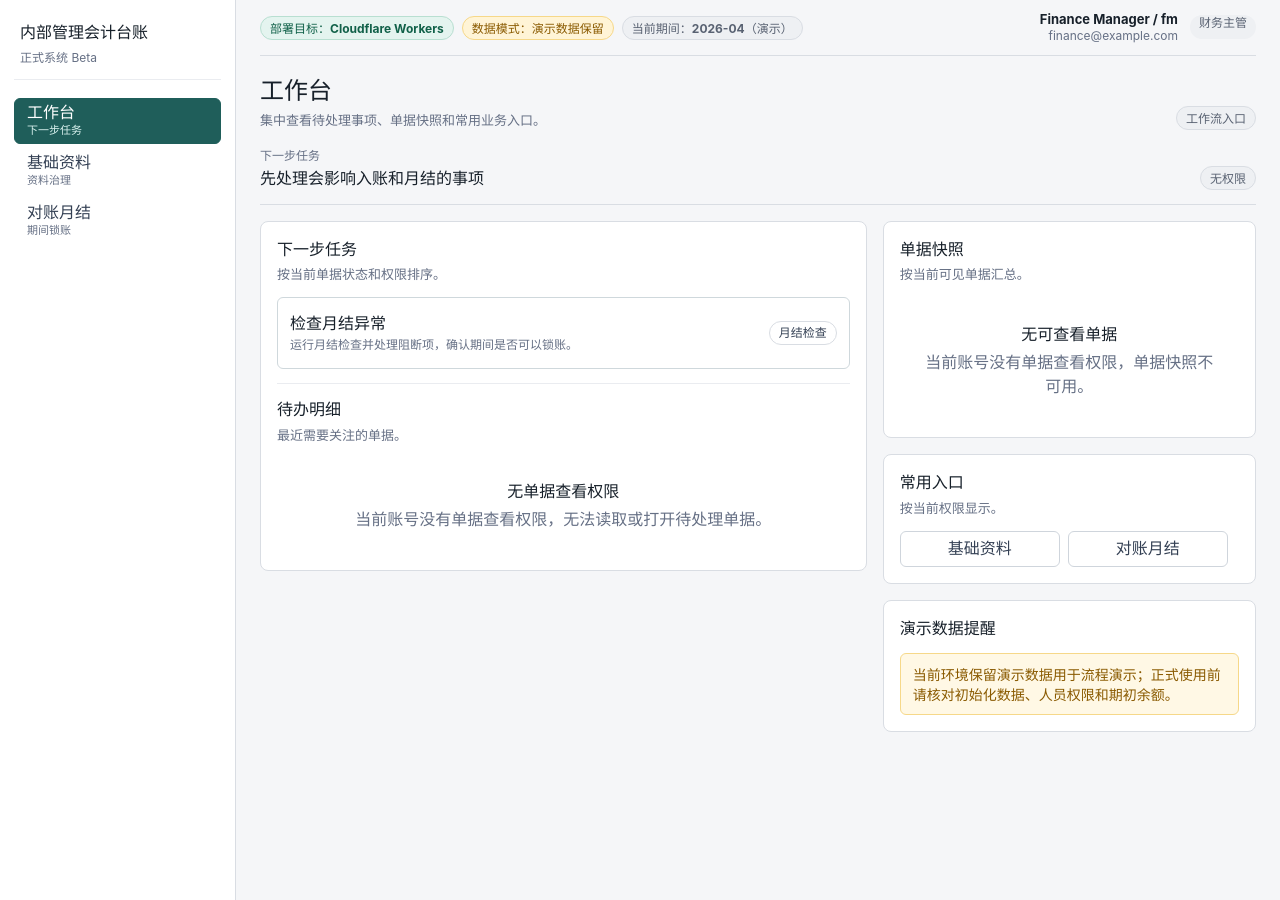
Test: App › renders the month close center from navigation
Click the button "对账月结 期间锁账" at (118, 221), box x1=14 y1=198 x2=221 y2=244
(page scrolled)
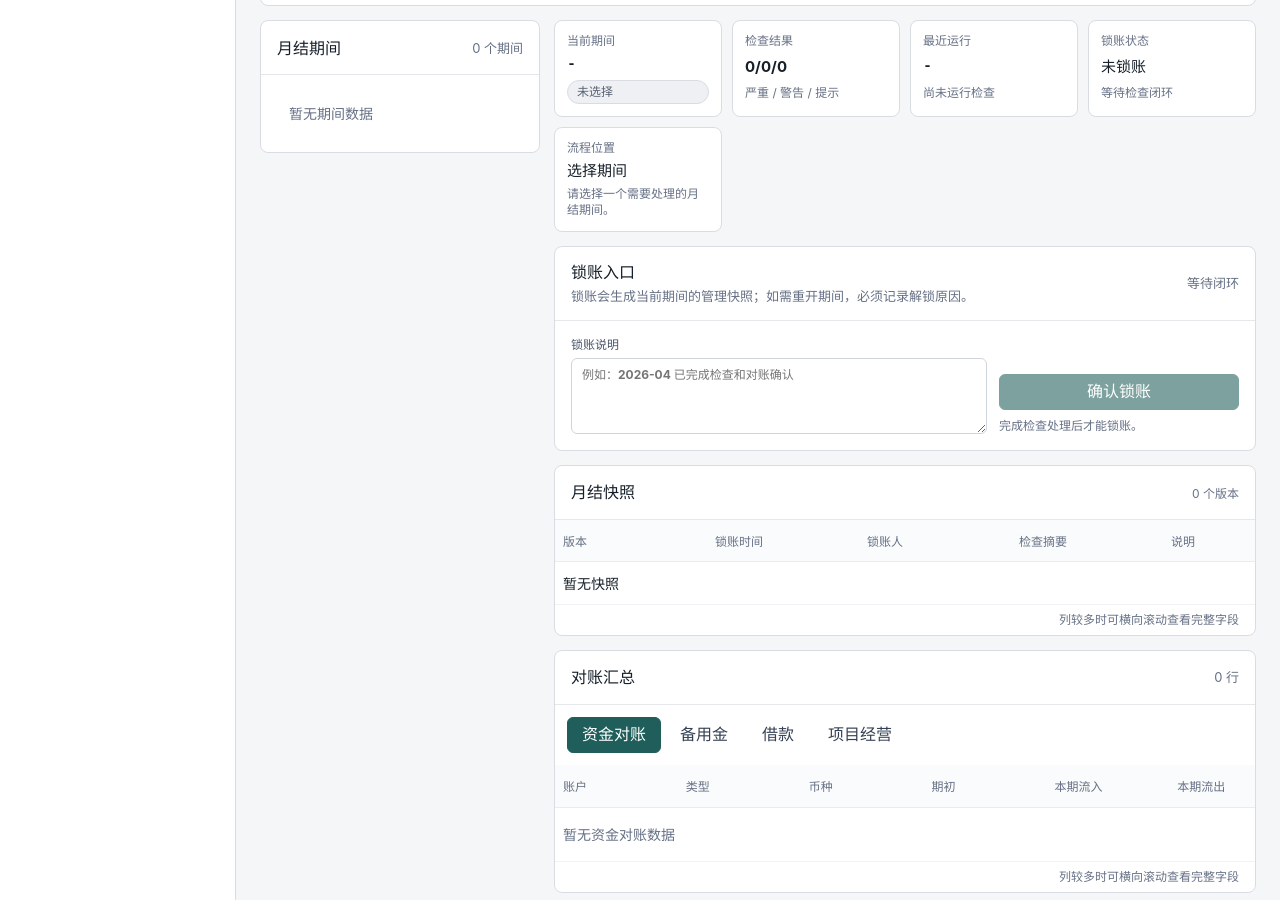
Expected: the element that starts with "月结检查控制台" shows "月结期间", x1=277 y1=38 x2=341 y2=58
